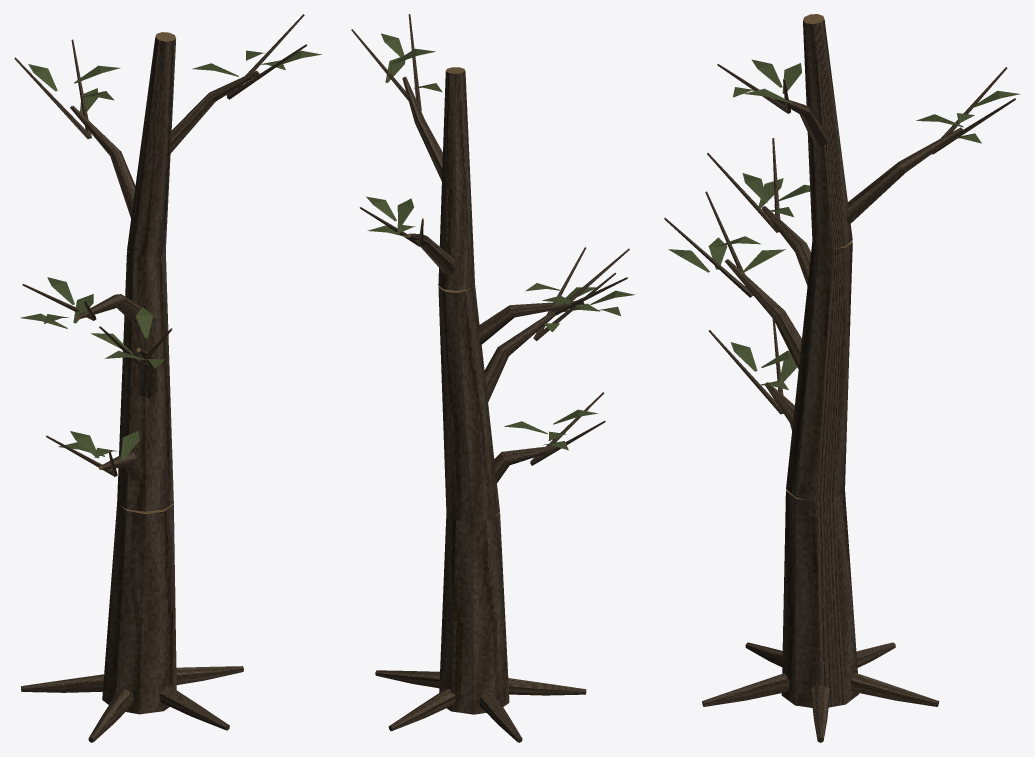
Rendered from env_trees_07_sparse_leaf.glb.
3 views of the same model, side by side, from view 1: azimuth 30°, elevation 25°; view 2: azimuth 150°, elevation 25°; view 3: azimuth 270°, elevation 25° (orthographic). The views are drawn at different scales.
Visible parts, largest first — view 1: solid, foliage; view 2: solid, foliage; view 3: solid, foliage.
Boxes of the visible parts, box(x1,y1,x2,y2) form: solid: box(14, 14, 307, 742); foliage: box(20, 50, 321, 460); solid: box(351, 14, 629, 742); foliage: box(366, 33, 635, 450); solid: box(664, 14, 1015, 742); foliage: box(668, 59, 1020, 389).
Size of the model in its own units: 2.01 by 4.43 by 2.08.
Materials: 2 (2 with a texture image).
